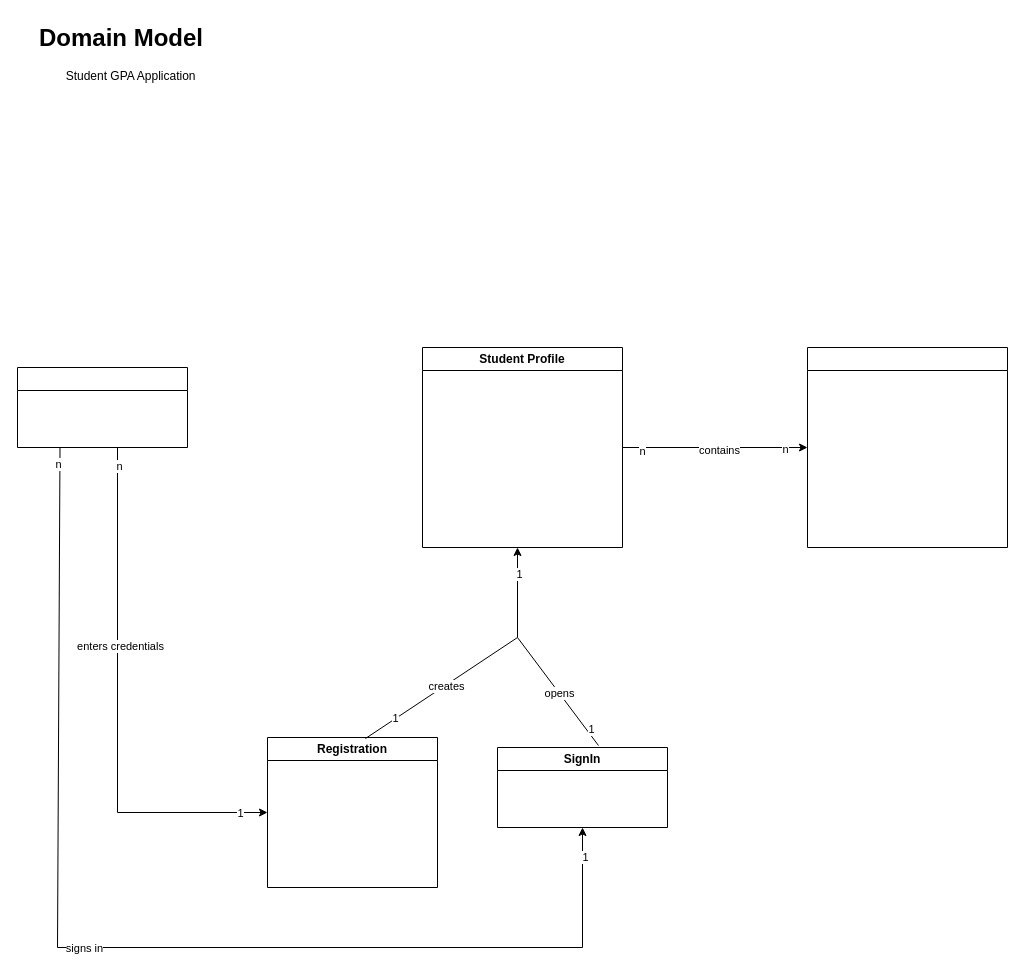
Some shapes in this 1025 by 973 pixel diagram are drawn without their labels. The centre of each missing label's shape, as x and y in pixels:
GPA-Calculator: pixel 907 447
Student: pixel 102 407
